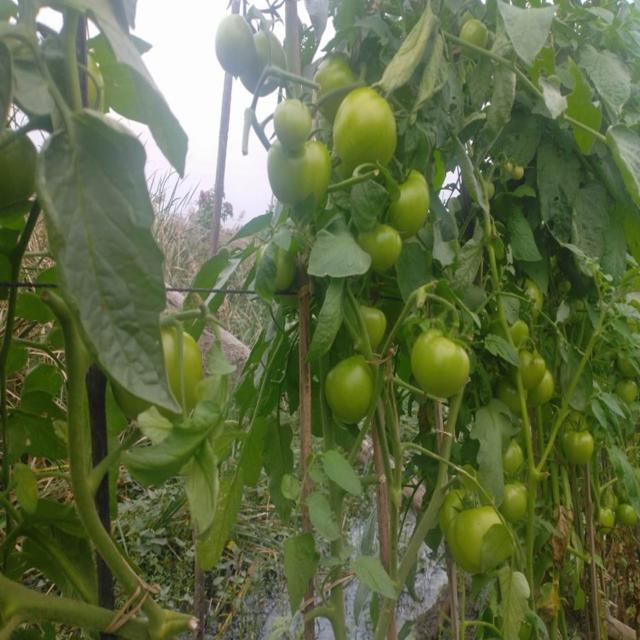tomato: (337, 81, 396, 167), (268, 140, 335, 211), (412, 330, 469, 392), (325, 353, 375, 423), (162, 334, 208, 404), (387, 167, 435, 233), (216, 11, 258, 75), (1, 129, 35, 202), (451, 505, 493, 563), (273, 98, 313, 148), (560, 421, 602, 467), (367, 229, 402, 270), (520, 347, 549, 392), (505, 487, 534, 529), (318, 57, 348, 95), (367, 304, 392, 345), (537, 368, 563, 407), (462, 18, 492, 50), (500, 444, 528, 471), (519, 286, 544, 315), (617, 380, 640, 410), (615, 504, 640, 528), (594, 507, 616, 534), (513, 319, 530, 348)
